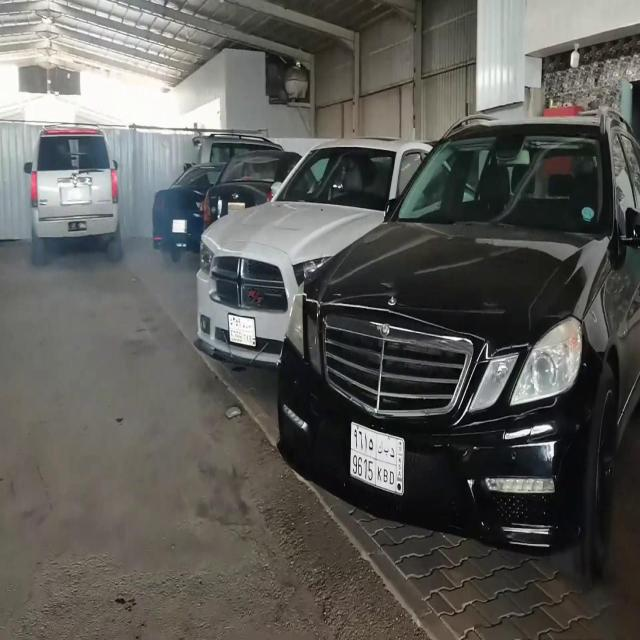license_plate: (345, 416, 407, 498), (225, 310, 256, 348), (61, 181, 90, 205), (64, 215, 86, 235), (169, 213, 187, 233)
